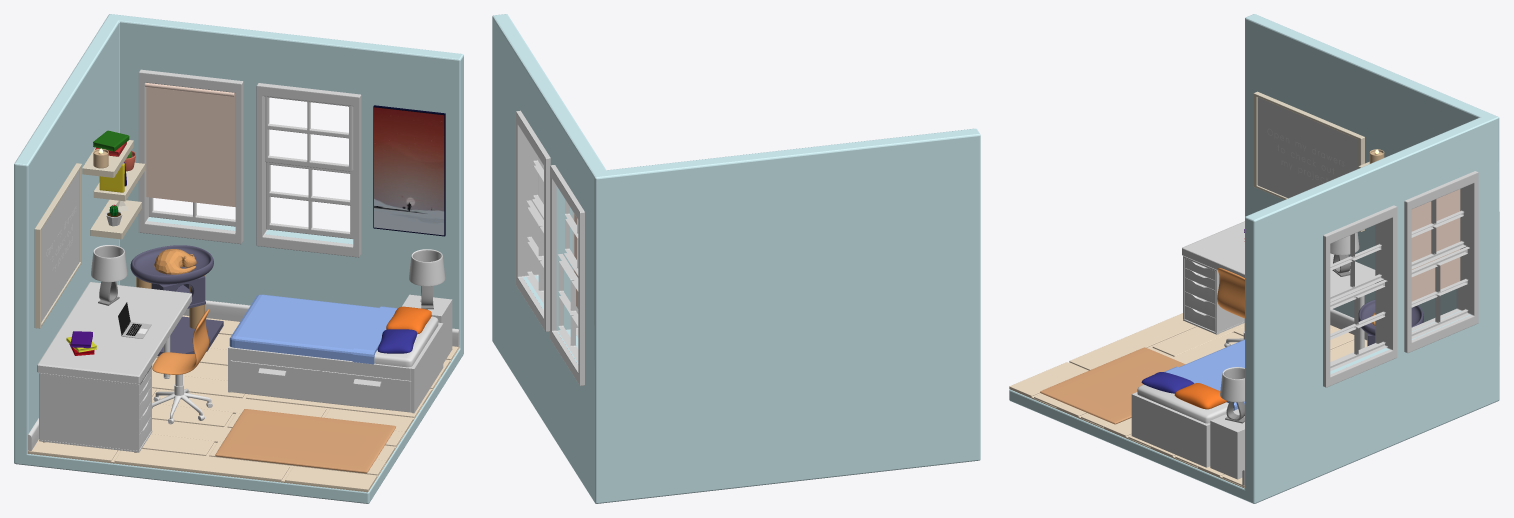
File: room_combined5.glb
3 views of the same model, side by side, from view 1: azimuth 30°, elevation 25°; view 2: azimuth 150°, elevation 25°; view 3: azimuth 270°, elevation 25° (orthographic). The views are drawn at different scales.
Visible parts, largest first — view 1: Right Window Frame.009, floor, Right Window Frame.007, Frame, Plane.006, TableTop, sheets, Plane.007, Drawer_Large_Front_Panel, Right Window Frame.001, Right Window Frame.002, Whiteboard frame.001 (+21 smaller); view 2: Right Window Frame.009, Right Window Frame.001, Right Window Frame.002, Right Window Frame.004, Right Window Frame.006, Right Window Frame.003; view 3: Right Window Frame.009, floor, Whiteboard frame.001, Right Window Frame.002, Right Window Frame.001, Plane.007, Frame, Right Window Frame.007, TableTop, Drawer_Large_Front_Panel, NightStand, sheets (+11 smaller).
Part boxes in pixels (x1,y1,x2,y2): Right Window Frame.009: (14, 14, 463, 503); floor: (28, 315, 459, 492); Right Window Frame.007: (146, 87, 235, 206); Frame: (228, 322, 443, 413); Plane.006: (373, 105, 445, 236); TableTop: (37, 282, 191, 383); sheets: (229, 294, 397, 364); Plane.007: (215, 409, 395, 473); Drawer_Large_Front_Panel: (39, 364, 152, 452); Right Window Frame.001: (256, 83, 361, 257); Right Window Frame.002: (138, 69, 243, 244); Whiteboard frame.001: (41, 170, 79, 321); Right Window Frame.009: (492, 14, 980, 503); Right Window Frame.001: (515, 110, 550, 331); Right Window Frame.002: (550, 165, 584, 385); Right Window Frame.004: (558, 254, 578, 362); Right Window Frame.006: (526, 200, 543, 303); Right Window Frame.003: (564, 199, 578, 275); Right Window Frame.009: (1009, 14, 1499, 503); floor: (1009, 313, 1367, 488); Whiteboard frame.001: (1257, 97, 1358, 198); Right Window Frame.002: (1404, 171, 1478, 353); Right Window Frame.001: (1323, 205, 1397, 387); Plane.007: (1040, 347, 1185, 424); Frame: (1131, 392, 1210, 467); Right Window Frame.007: (1411, 189, 1460, 301); TableTop: (1182, 221, 1375, 302); Drawer_Large_Front_Panel: (1183, 256, 1244, 334); NightStand: (1210, 409, 1244, 479); sheets: (1164, 339, 1244, 410).
Bounding box in the file's own units: 5.67 × 3.63 × 5.67.
Materials: 46 (1 with a texture image).
